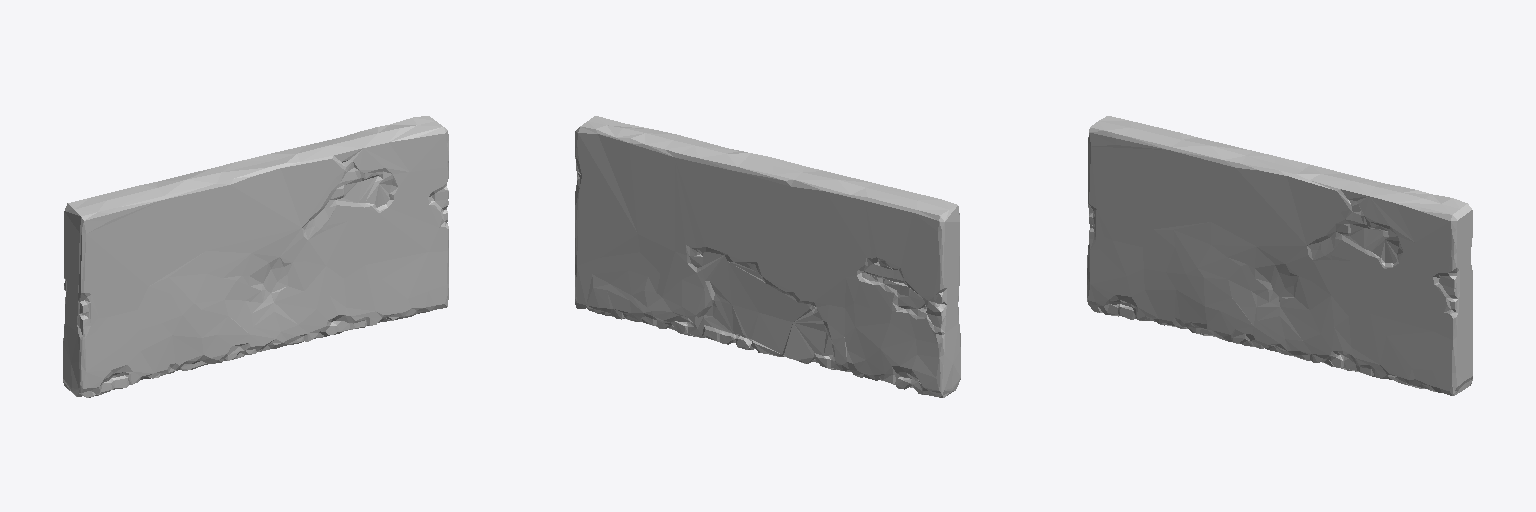
The model's file is damagedWall.obj.
3 renders of one model, left to right at view 1: azimuth 30°, elevation 25°; view 2: azimuth 150°, elevation 25°; view 3: azimuth 330°, elevation 25°, orthographic.
Parts seen in each view (by area): view 1: Object_2_Object_0; view 2: Object_2_Object_0; view 3: Object_2_Object_0.
Boxes of the visible parts, <box> form: Object_2_Object_0: <box>63,116,448,397</box>; Object_2_Object_0: <box>575,116,960,397</box>; Object_2_Object_0: <box>1087,116,1472,395</box>.
Bounding box in the file's own units: 9.96 × 4.8 × 0.9918.